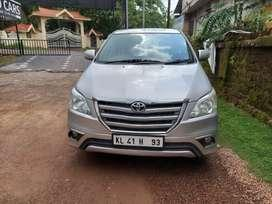KL41M93: (112, 133, 161, 145)
